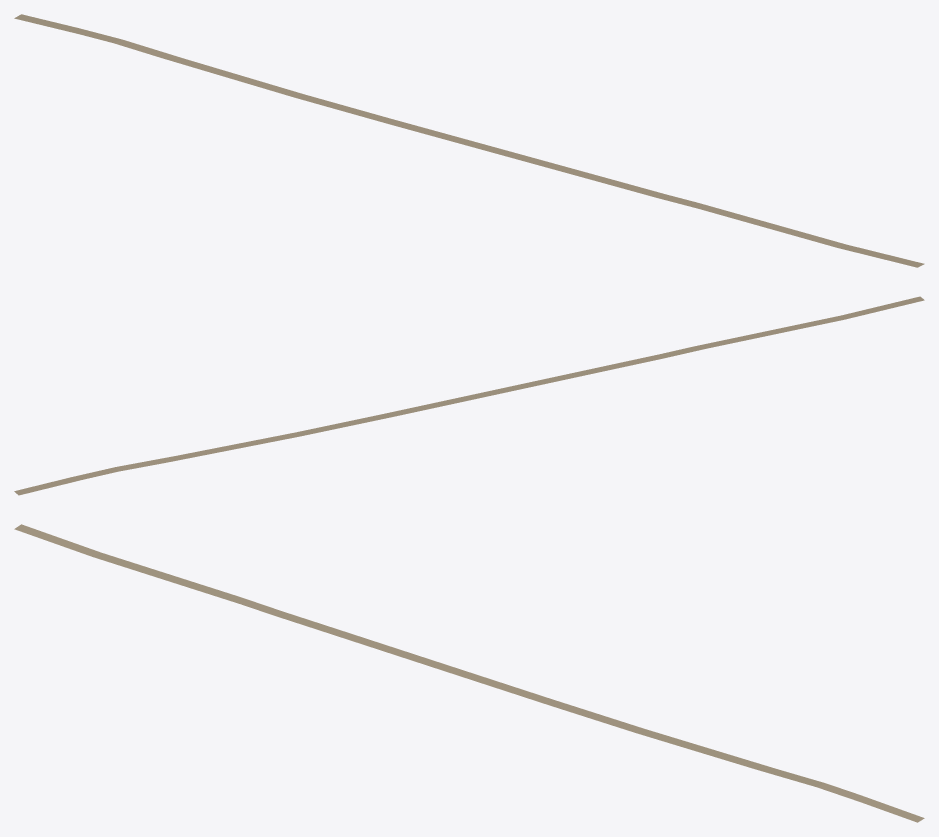
Rendered from farm_-27_-28_track.glb.
3 views of the same model, one above another, from view 1: azimuth 90°, elevation 25°; view 2: azimuth 150°, elevation 25°; view 3: azimuth 270°, elevation 25° (orthographic). The views are drawn at different scales.
Visible parts, largest first — view 1: geometry_0; view 2: geometry_0; view 3: geometry_0.
Boxes of the visible parts, x1=… form: geometry_0: x1=14, y1=14, x2=924, y2=267; geometry_0: x1=14, y1=296, x2=924, y2=495; geometry_0: x1=14, y1=524, x2=924, y2=822.
Size of the model in its own units: 169 by 6.4 by 235.
